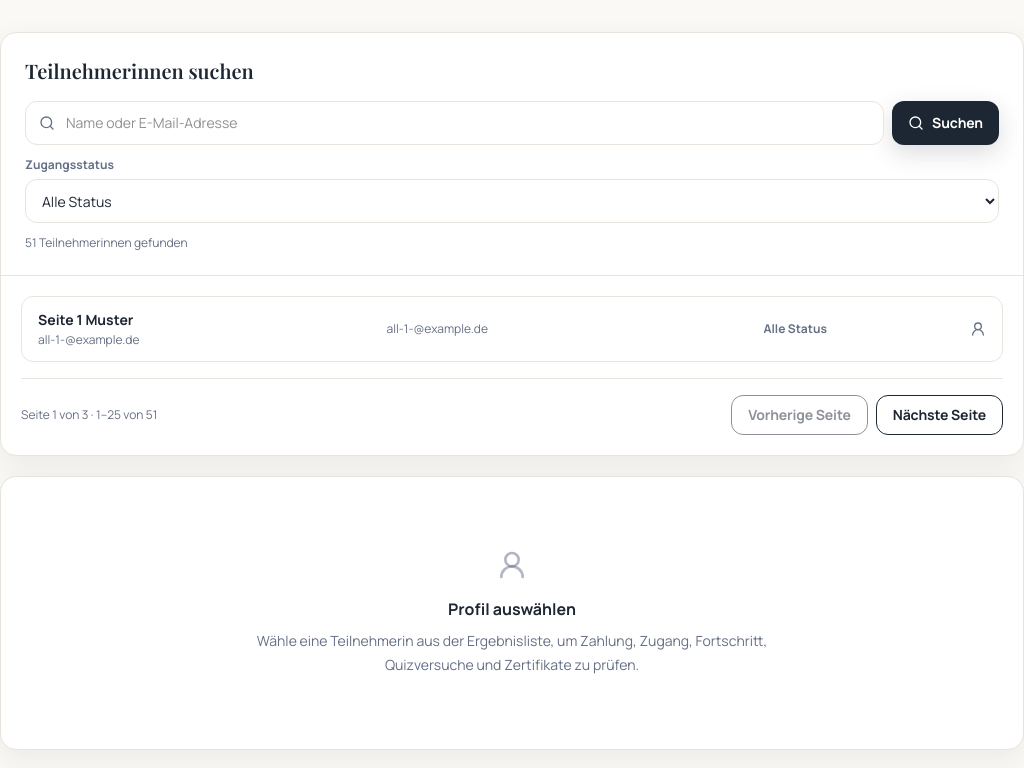
Test case: Admin-Teilnehmerverwaltung › kombiniert Suche und Status und setzt die Seite bei beiden Filtern zurück
Expected: the text "Seite 1 Muster" is shown, left=38, top=310, right=133, bottom=329
Click the button "Nächste Seite" at point(939, 415), box left=876, top=395, right=1003, bottom=435
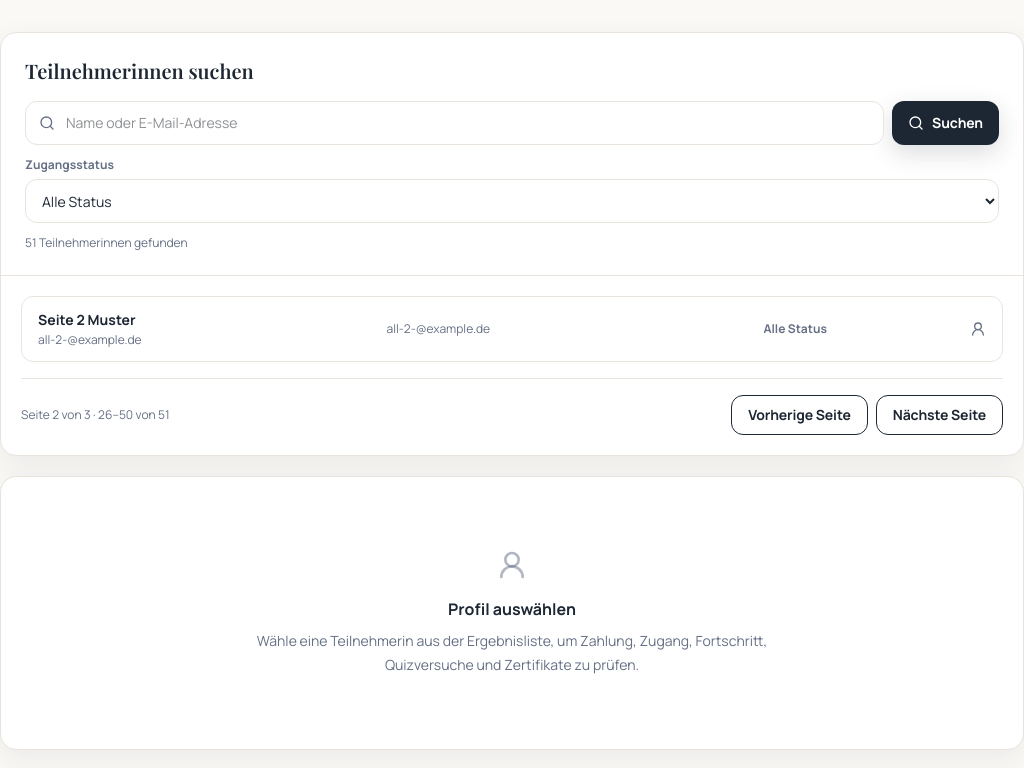
Expected: the text "Seite 2 Muster" is shown, left=38, top=310, right=136, bottom=329
Type "  Mira  " into the search field labelled "Name oder E-Mail-Adresse" at point(455, 123), box left=25, top=101, right=884, bottom=145
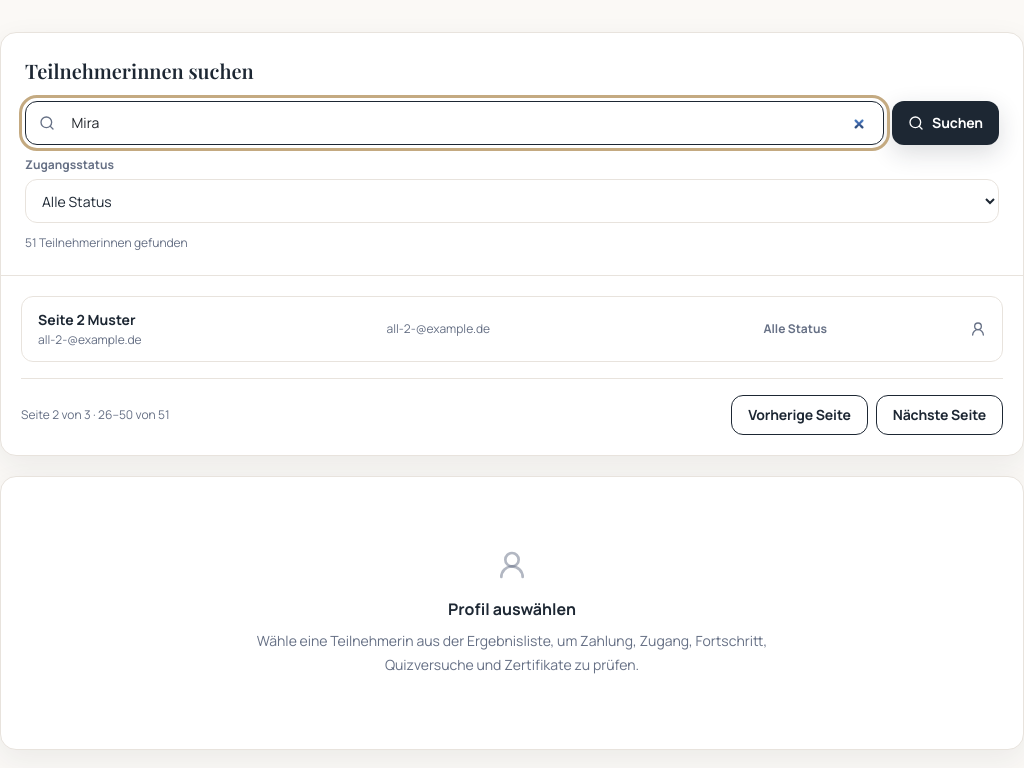
Select "Aktiv" in the dropdown labelled "Zugangsstatus" at point(512, 201), box left=25, top=179, right=999, bottom=223
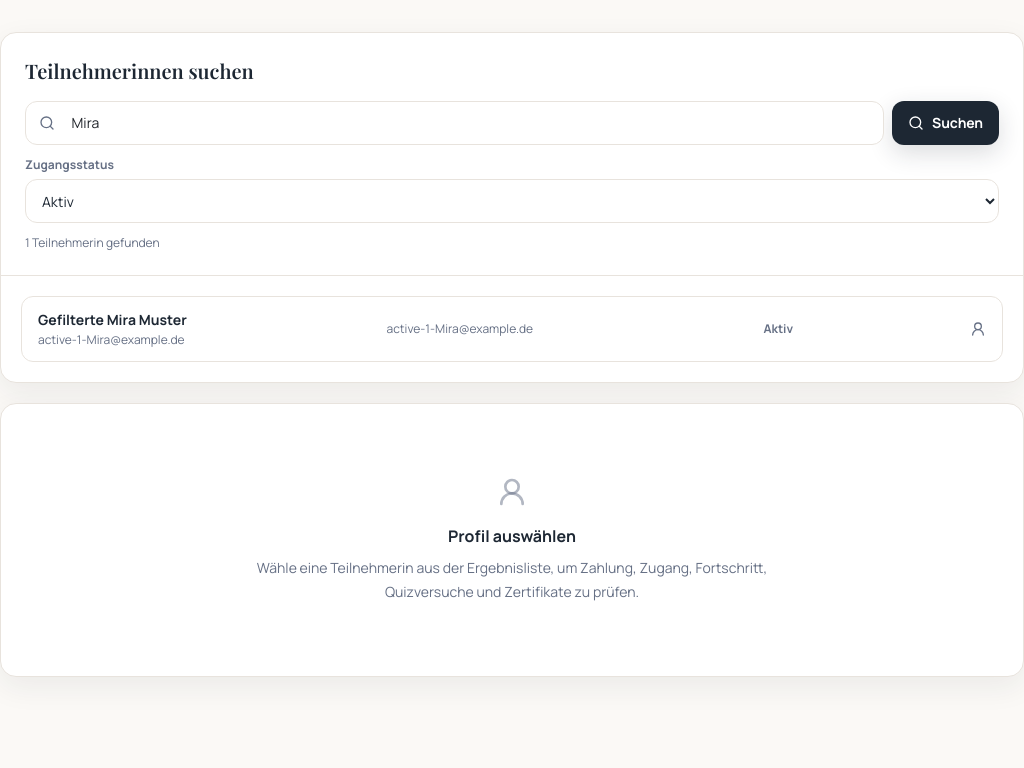
Expected: the text "Gefilterte Mira Muster" is shown, left=38, top=310, right=187, bottom=329
Replace the text in the search field named "Name oder E-Mail-Adresse" with "Lina" at point(455, 123), box left=25, top=101, right=884, bottom=145
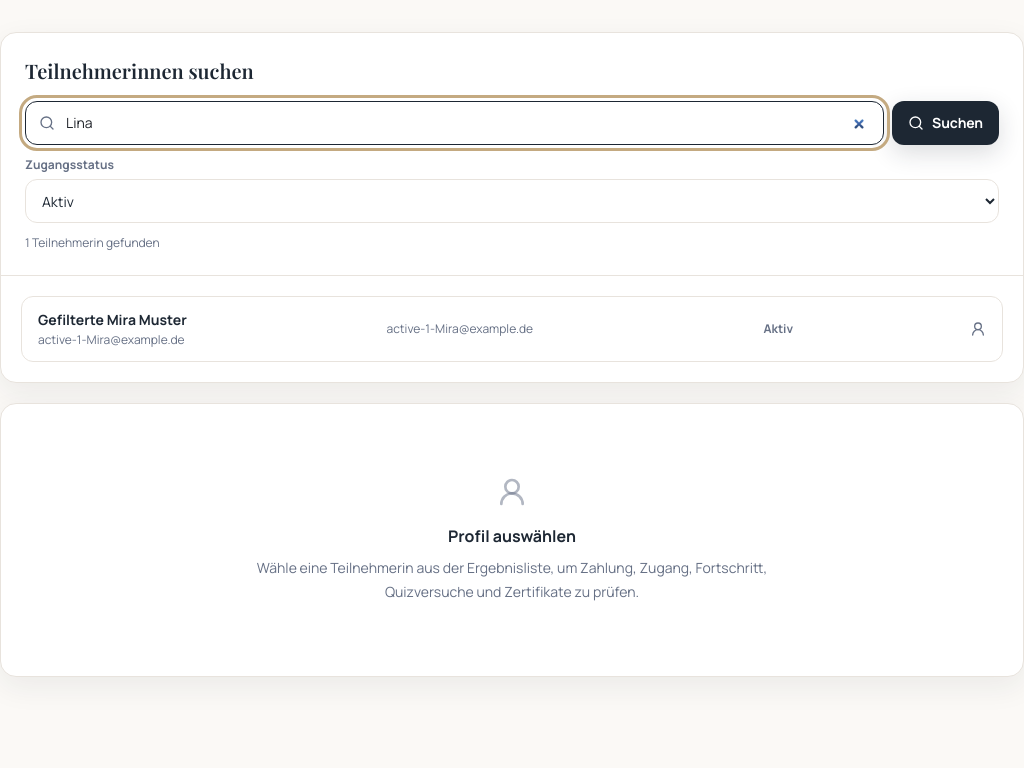
Click the button "Suchen" at point(946, 123), box left=892, top=101, right=999, bottom=145
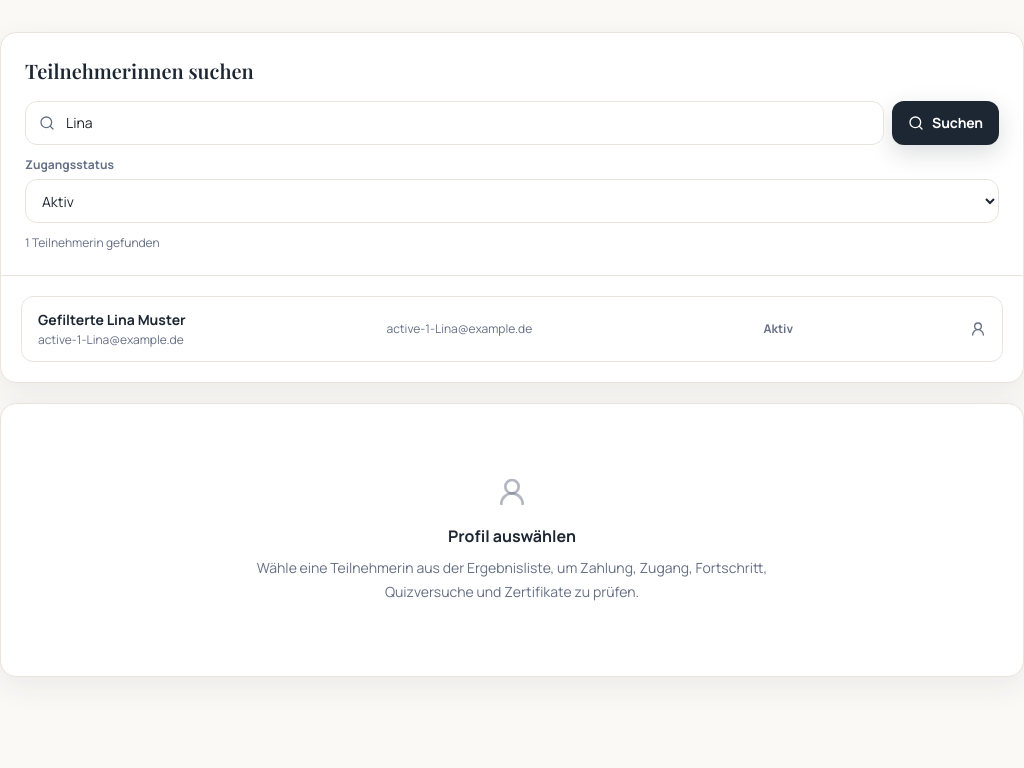
Expected: the text "Gefilterte Lina Muster" is shown, left=38, top=310, right=186, bottom=329
